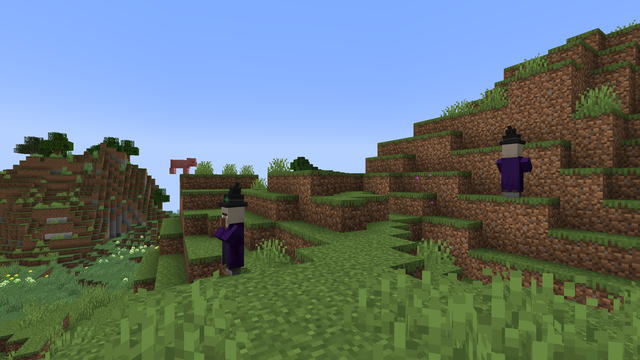cochons: (172, 158, 188, 173)
sorcieres: (220, 202, 246, 276), (498, 140, 525, 197)
